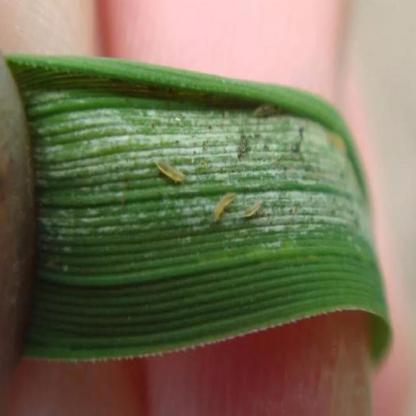whorl-maggot: (152, 150, 191, 200), (206, 187, 234, 233), (239, 193, 267, 234), (254, 91, 288, 122)
